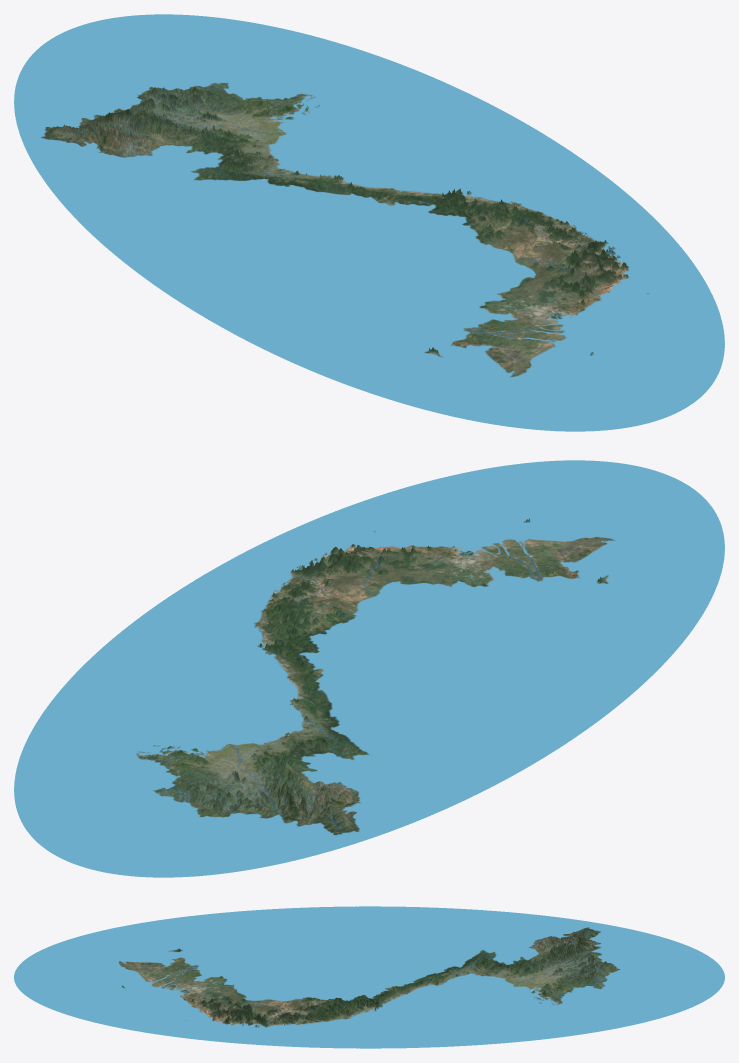
File: VNM-previa-terrain.glb
3 renders of one model, top to bottom at view 1: azimuth 30°, elevation 25°; view 2: azimuth 150°, elevation 25°; view 3: azimuth 270°, elevation 25°, orthographic. The views are drawn at different scales.
Parts seen in each view (by area): view 1: Vietname; view 2: Vietname; view 3: Vietname.
Part boxes in pixels (x1=…): Vietname: x1=14, y1=14, x2=724, y2=431; Vietname: x1=14, y1=460, x2=724, y2=877; Vietname: x1=14, y1=906, x2=724, y2=1048.
Size of the model in its own units: 1.18 by 0.0436 by 2.49.
Materials: 1 (1 with a texture image).
